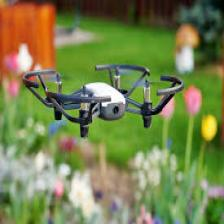drone: (26, 68, 175, 126)
